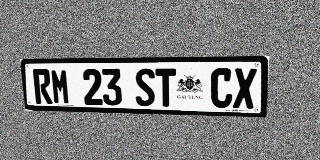2: (82, 69, 103, 105)
3: (101, 69, 122, 106)
C: (210, 68, 233, 108)
M: (50, 69, 70, 104)
R: (32, 69, 53, 104)
S: (135, 68, 155, 106)
T: (155, 68, 176, 107)
X: (233, 68, 257, 109)
